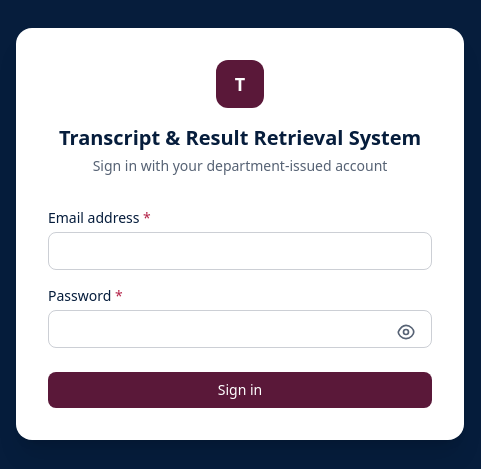
LoginPage › shows a validation error for a malformed email
Type "not-an-email" into the field labelled "Email address *".
click(240, 251); type("not-an-email")  # box [48,232,432,270]
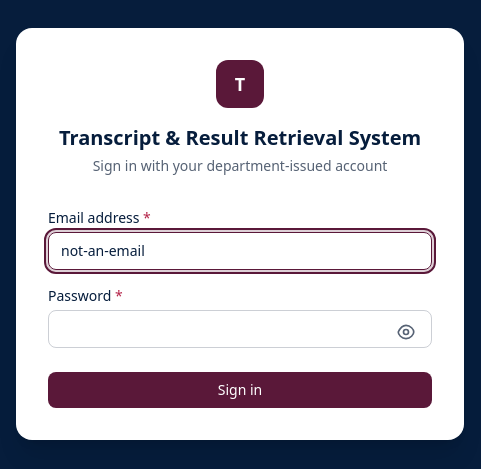
Type "somepassword" into the password field labelled "Password *".
click(240, 329); type("somepassword")  # box [48,310,432,348]
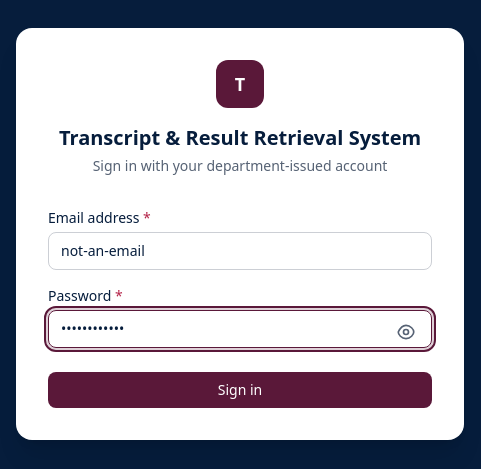
Click the button "Sign in".
click(240, 390)  # box [48,372,432,408]
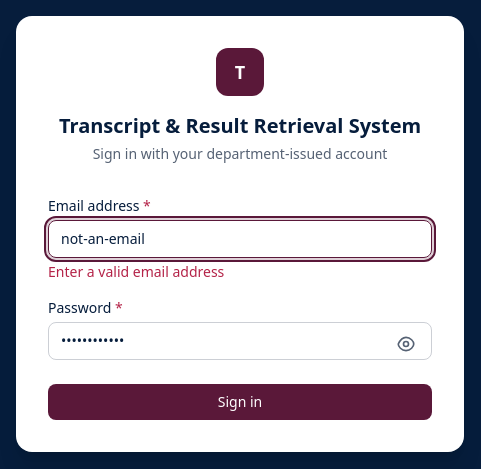
Now the text "Enter a valid email address" is shown, box [48,262,224,281]
